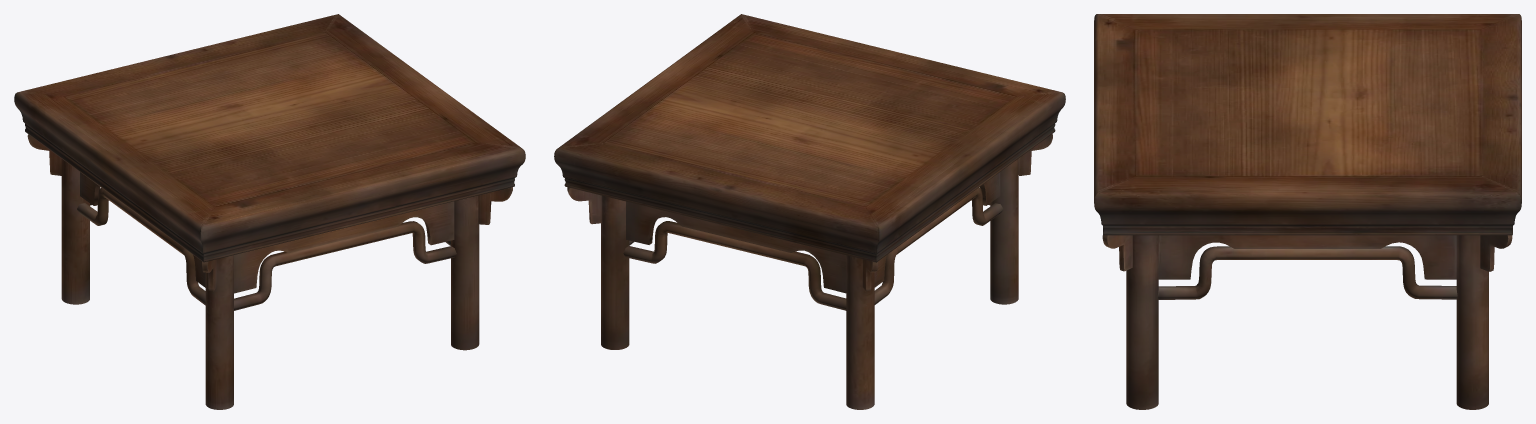
File: chinese_tea_table.glb
3 views of the same model, side by side, from view 1: azimuth 30°, elevation 25°; view 2: azimuth 150°, elevation 25°; view 3: azimuth 270°, elevation 25° (orthographic). The views are drawn at different scales.
Visible parts, largest first — view 1: chinese_tea_table; view 2: chinese_tea_table; view 3: chinese_tea_table.
Part boxes in pixels (<box>): chinese_tea_table: <box>14,14,525,409</box>; chinese_tea_table: <box>554,14,1065,409</box>; chinese_tea_table: <box>1094,14,1521,409</box>.
Size of the model in its own units: 0.8413 by 0.4987 by 0.8357.
1 material, 1 textured.
